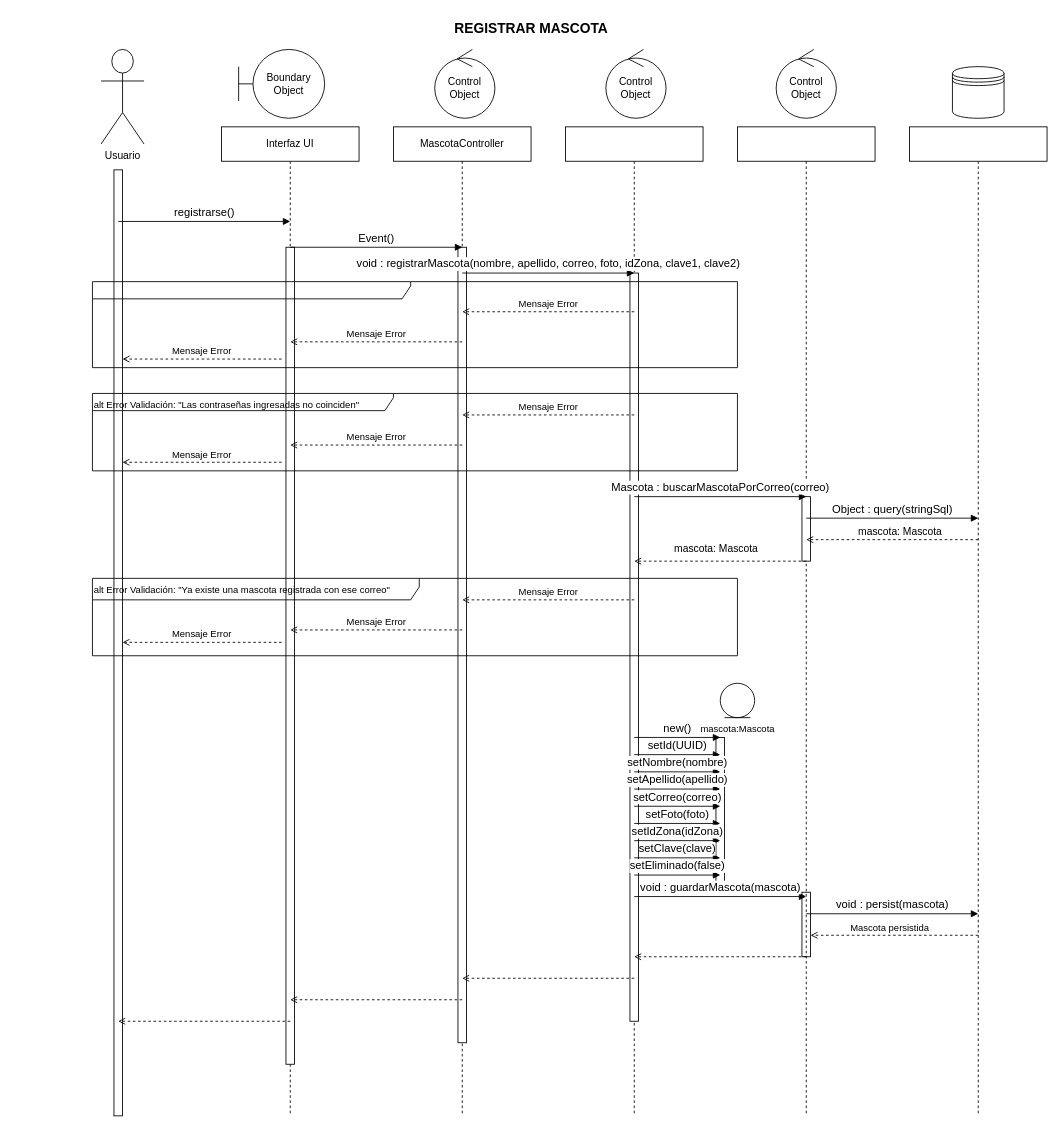
Image size: 1062x1132. Some labels were removed from this diagram. The shapes that lost their labels are listed below. From the top down, each one's box as (x1, y1, x2, y2) in pixels, then its label:
(92, 281, 737, 368): alt Error Validación: "Debe completar todos los campos obligatorios"
(565, 126, 703, 1116): MascotaService
(737, 126, 875, 1116): DAOMascota
(909, 126, 1047, 1116): BBDD
